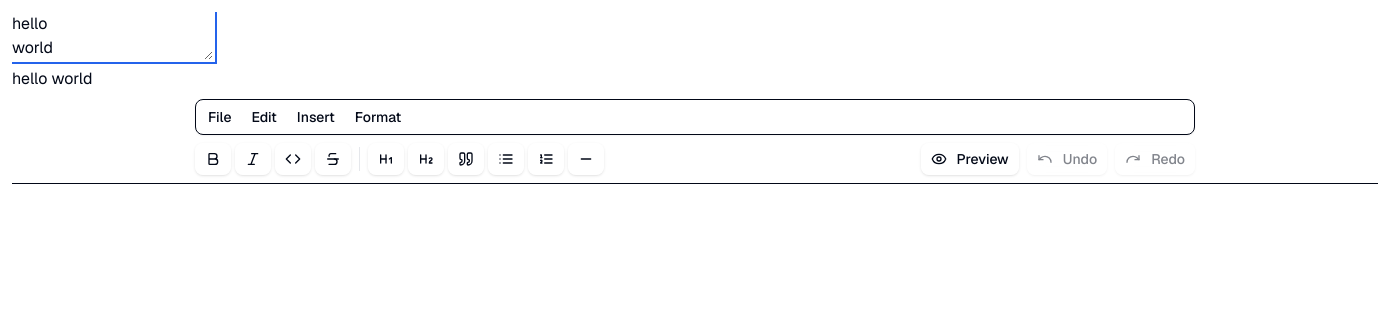
EditorToolbar › inserts horizontal rule via Menubar > Insert
The image size is (1378, 335).
// open Insert menu and click Horizontal Rule
Click the menu item "Insert" at (316, 117), box top-left (289, 103), bottom-right (343, 131)
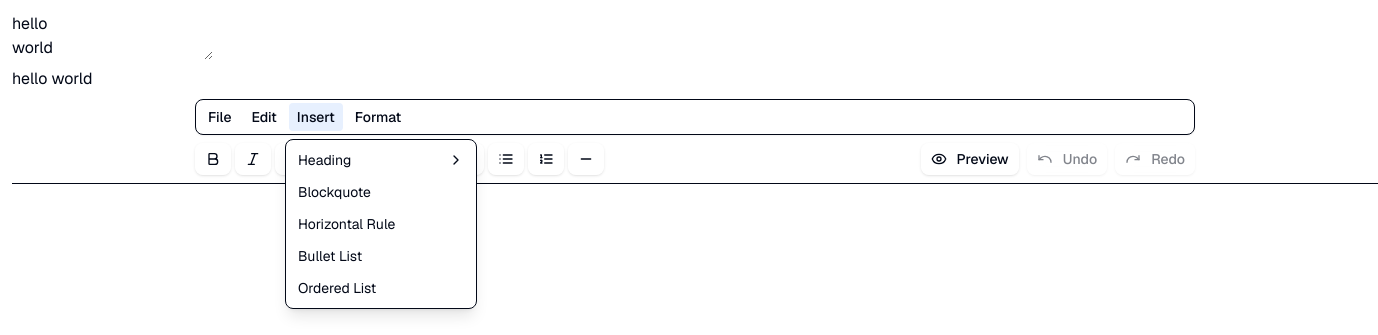
Click the menu item "Horizontal Rule" at (347, 224), box top-left (298, 215), bottom-right (395, 233)
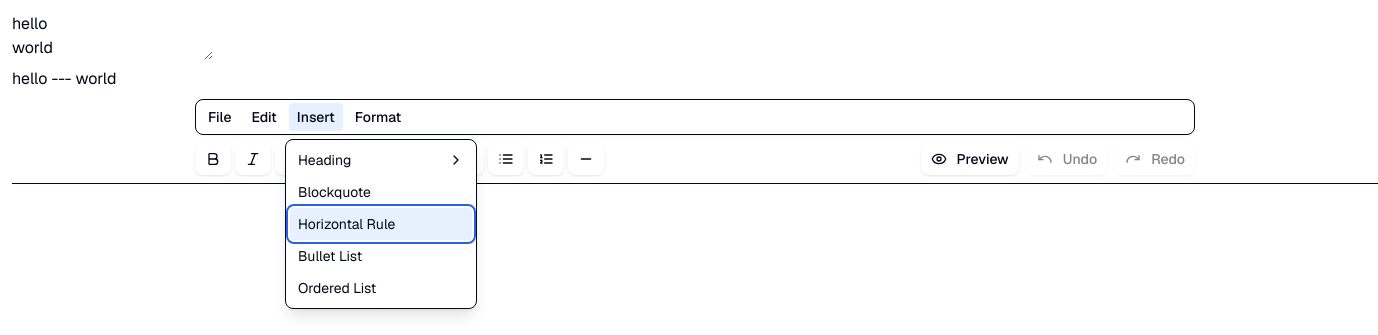
Check: the text with test id "value" reads "hello --- world", box top-left (12, 68), bottom-right (116, 89)
